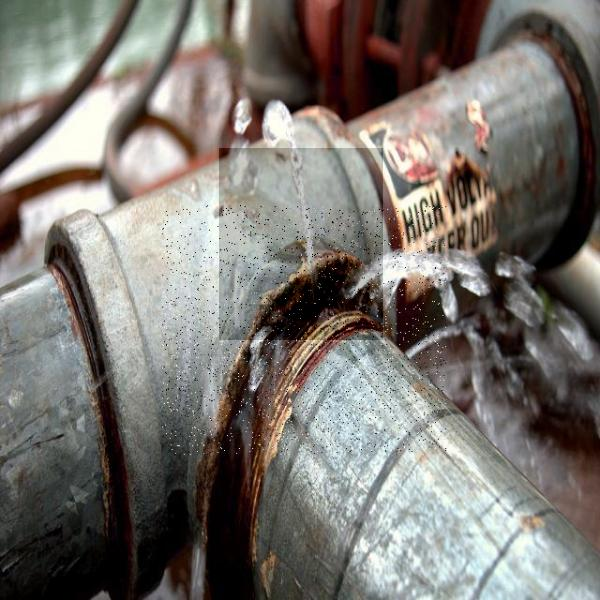water: (219, 148, 383, 340)
